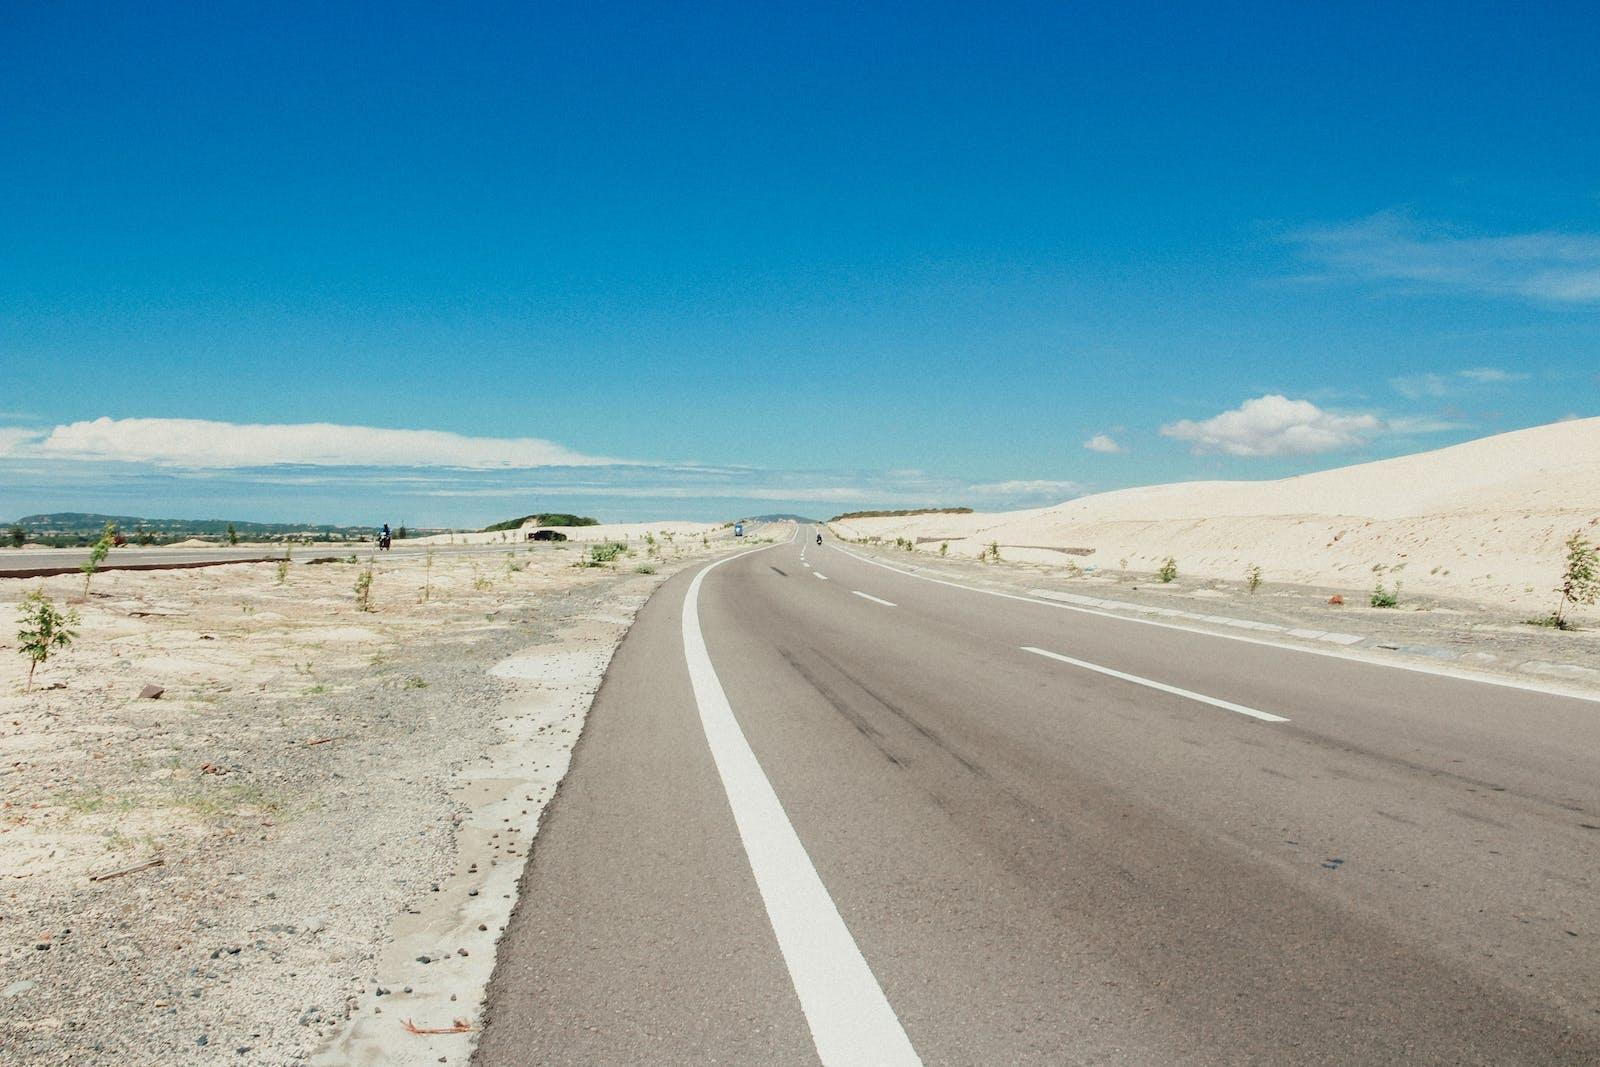field: (0, 538, 654, 1063), (843, 417, 1599, 610)
road: (698, 541, 1599, 1063), (476, 569, 819, 1063)
